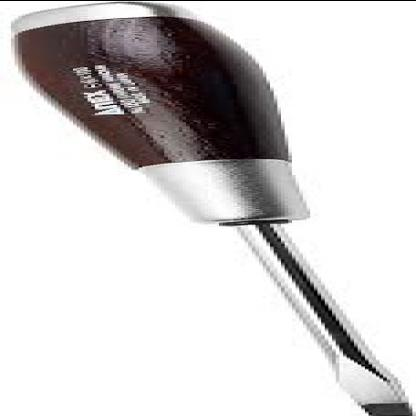Screw Driver: (12, 3, 410, 415)
